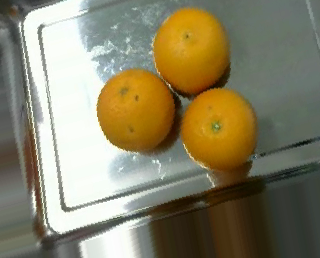Orange: (152, 6, 230, 95), (97, 68, 176, 154), (180, 88, 258, 171)
